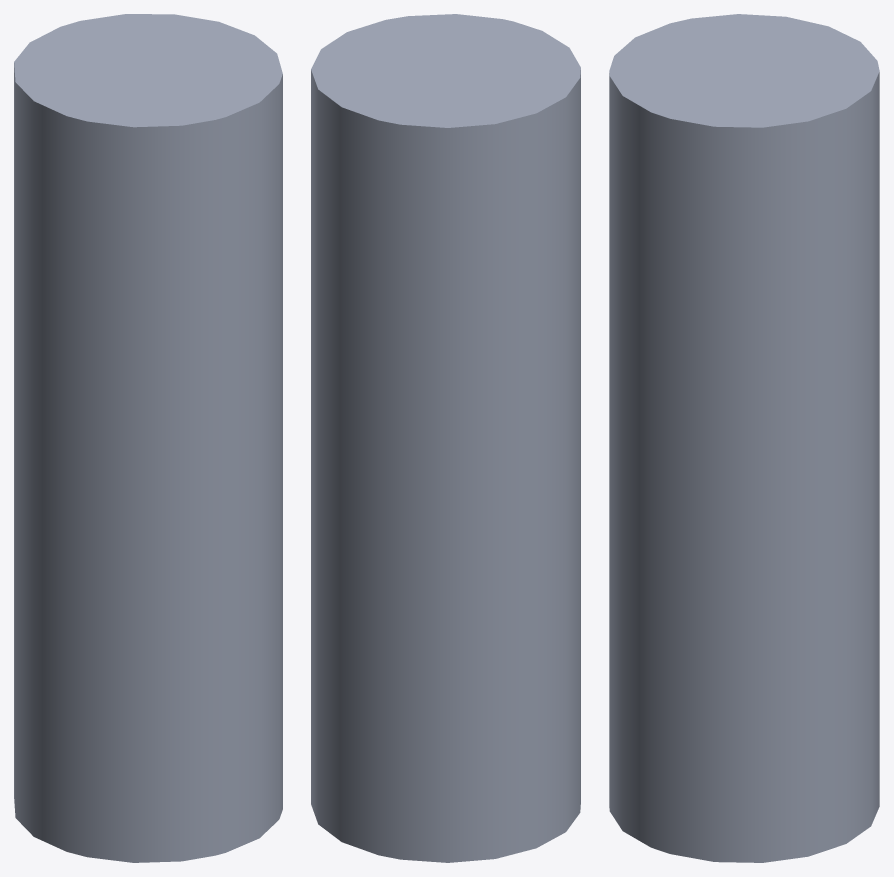
Rendered from Pin2.obj.
3 views of the same model, side by side, from view 1: azimuth 30°, elevation 25°; view 2: azimuth 150°, elevation 25°; view 3: azimuth 270°, elevation 25° (orthographic).
Parts seen in each view (by area): view 1: mesh 1 Pin2; view 2: mesh 1 Pin2; view 3: mesh 1 Pin2.
Part boxes in pixels (x1,y1,x2,y2): mesh 1 Pin2: [14, 14, 282, 862]; mesh 1 Pin2: [311, 14, 580, 862]; mesh 1 Pin2: [609, 14, 879, 862].
Size of the model in its own units: 0.00497 by 0.015 by 0.005.
